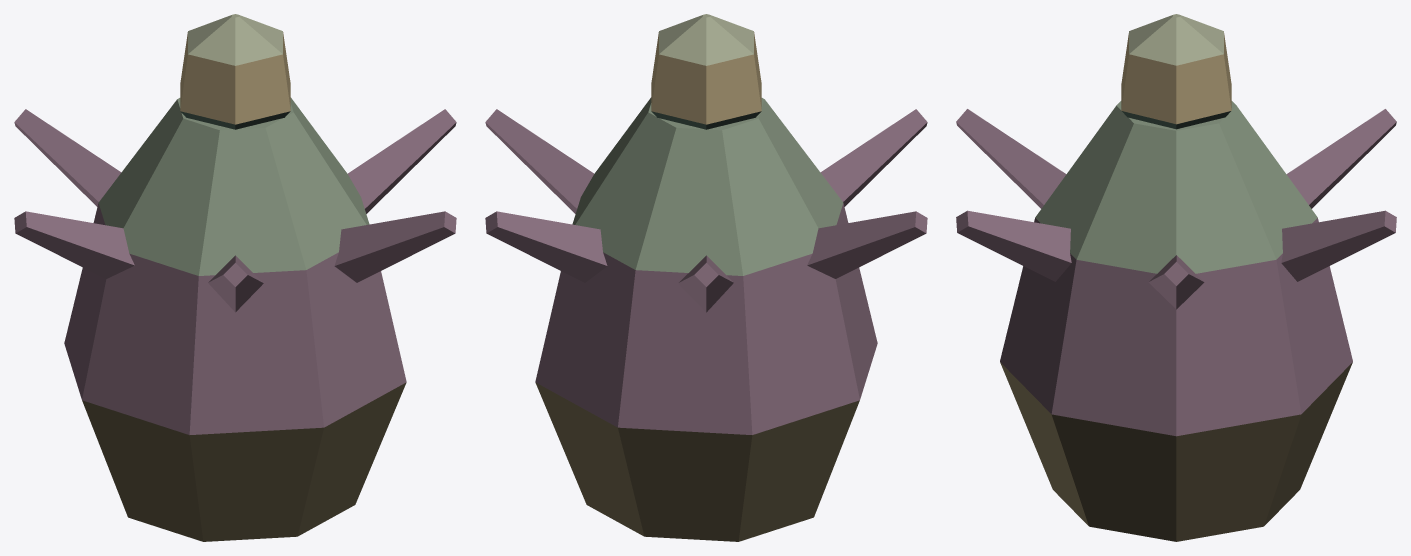
File: pod-open.glb
3 renders of one model, left to right at view 1: azimuth 30°, elevation 25°; view 2: azimuth 150°, elevation 25°; view 3: azimuth 270°, elevation 25°, orthographic.
Visible parts, largest first — view 1: pod-open__body; view 2: pod-open__body; view 3: pod-open__body.
Boxes of the visible parts, x1,y1,x2,y2 form: pod-open__body: (14,14,456,541); pod-open__body: (485,14,927,541); pod-open__body: (956,14,1396,541).
Size of the model in its own units: 1.43 by 1.48 by 1.25.
